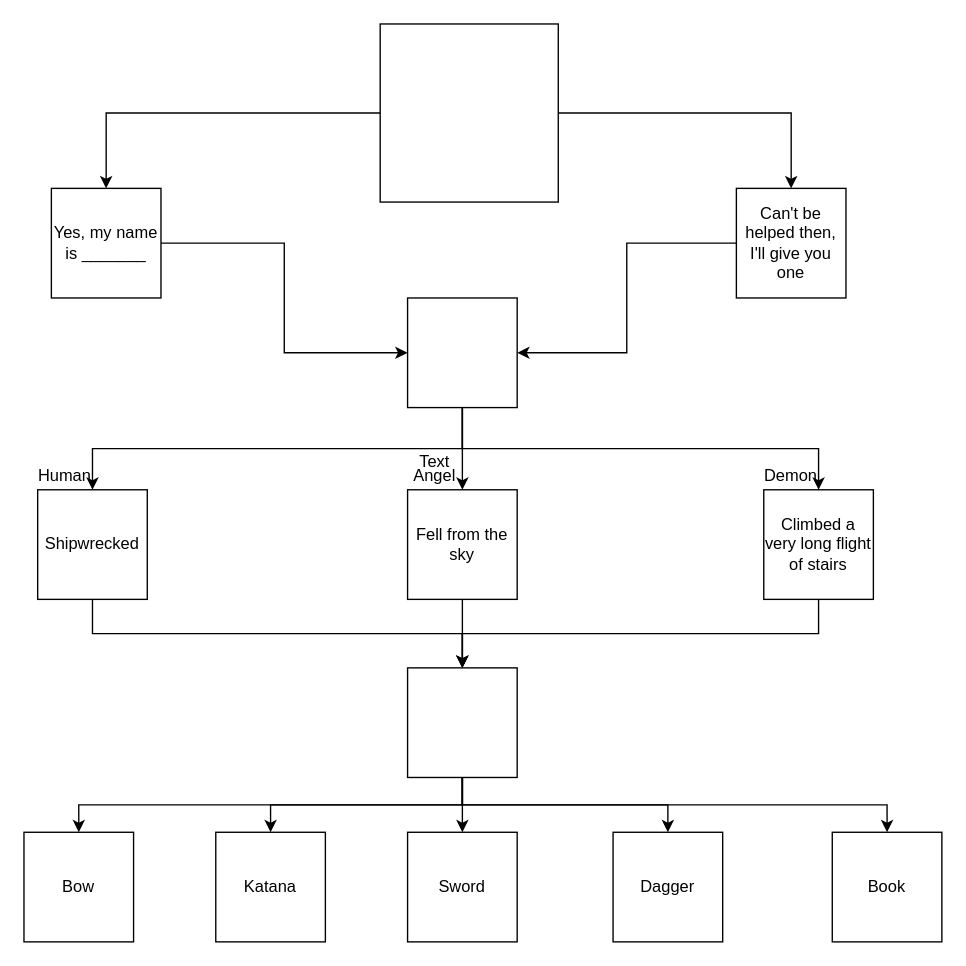
This 966x966 diagram has some shape labels left out. The centre of each missing label's shape, as x and y in pixels:
Do you remember how you got here?: point 461,352
Hey, you are awake. Do you remember your name?: point 468,112
You'll need a weapon it's not safe out here: point 461,722
